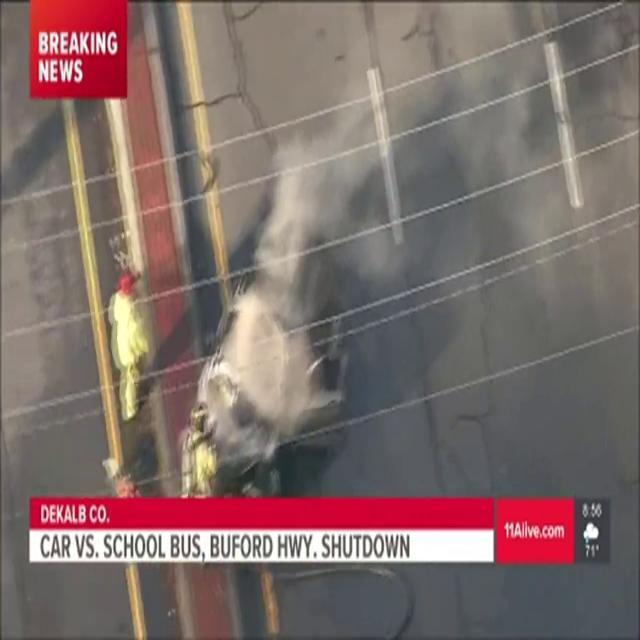Smoke: (225, 4, 640, 464), (26, 0, 130, 102)
